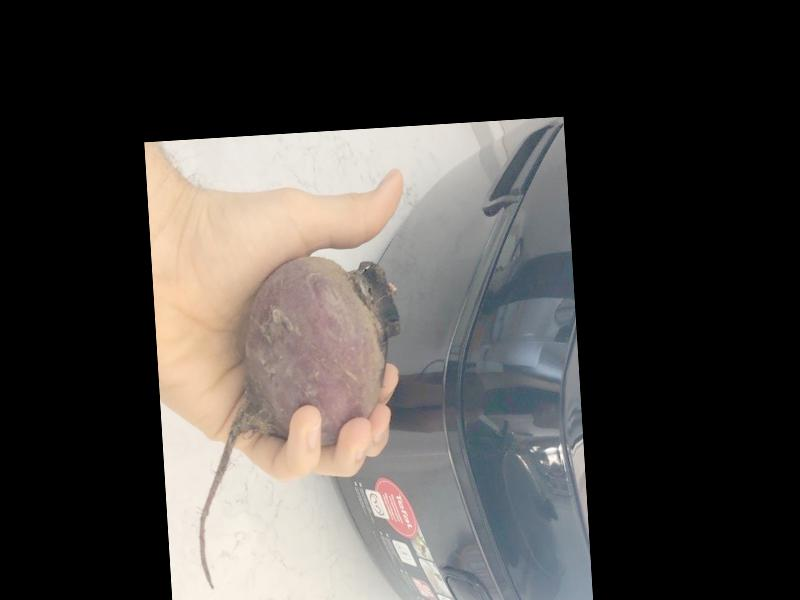Beet: (181, 251, 415, 590)
